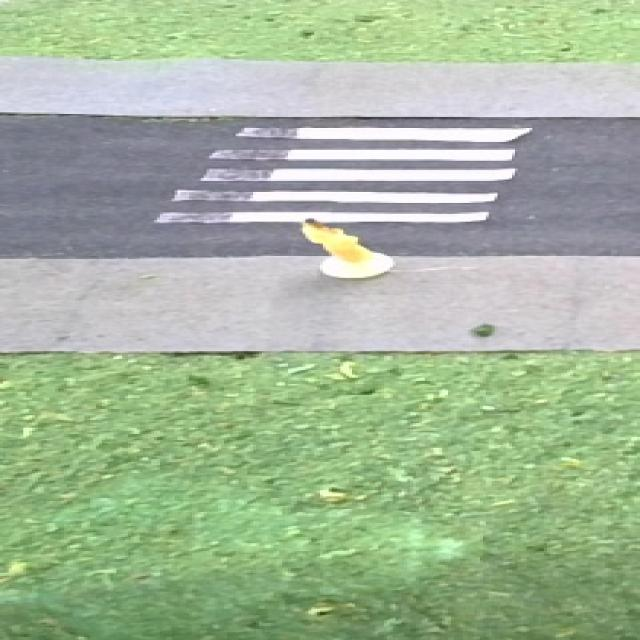person: (296, 210, 401, 287)
